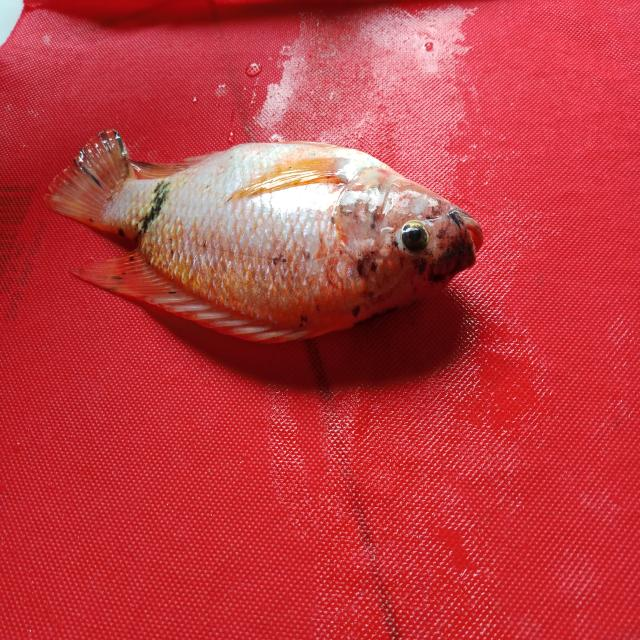ikan: (52, 120, 479, 359)
